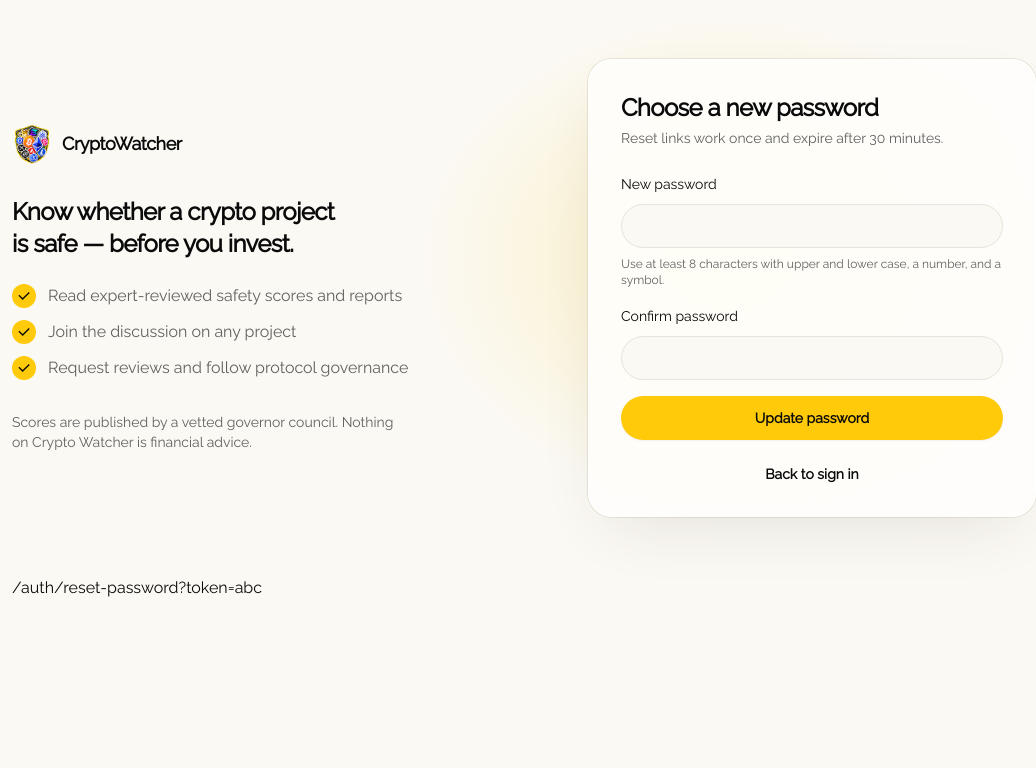
Scenario: ResetPasswordPage › reports mismatched passwords inline
Type "Correct-Horse-42!" into the password field labelled "New password" at [812, 226], box [621,204,1003,248]
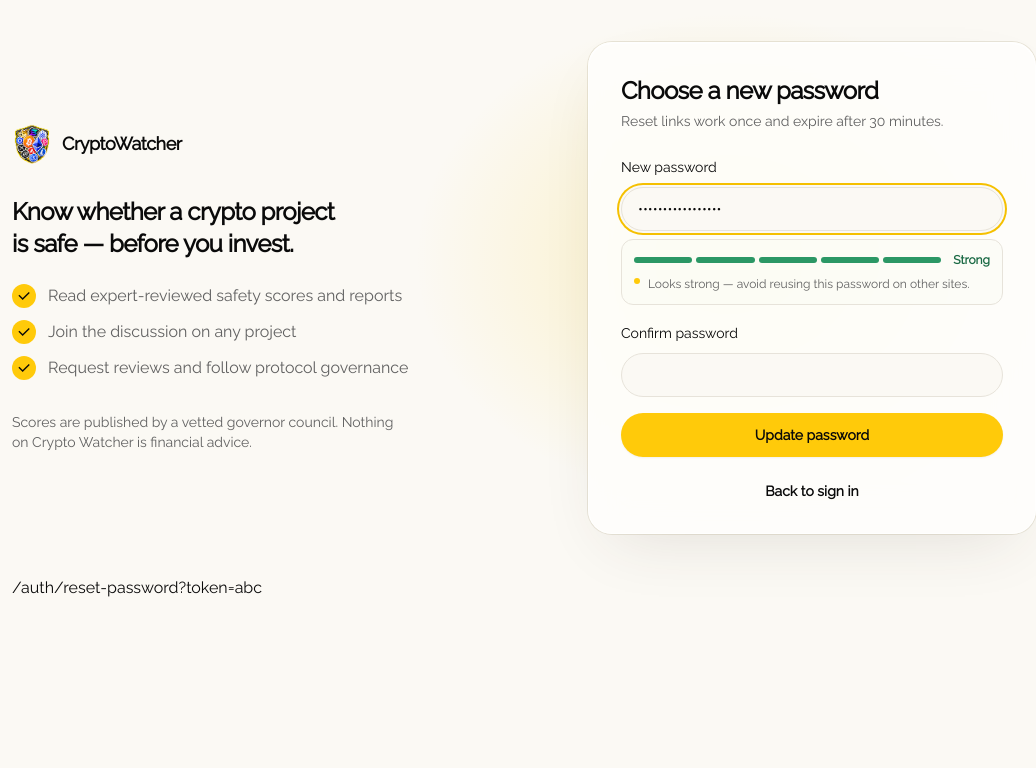
Type "Something-Else-42!" into the password field labelled "Confirm password" at [812, 375], box [621,353,1003,397]
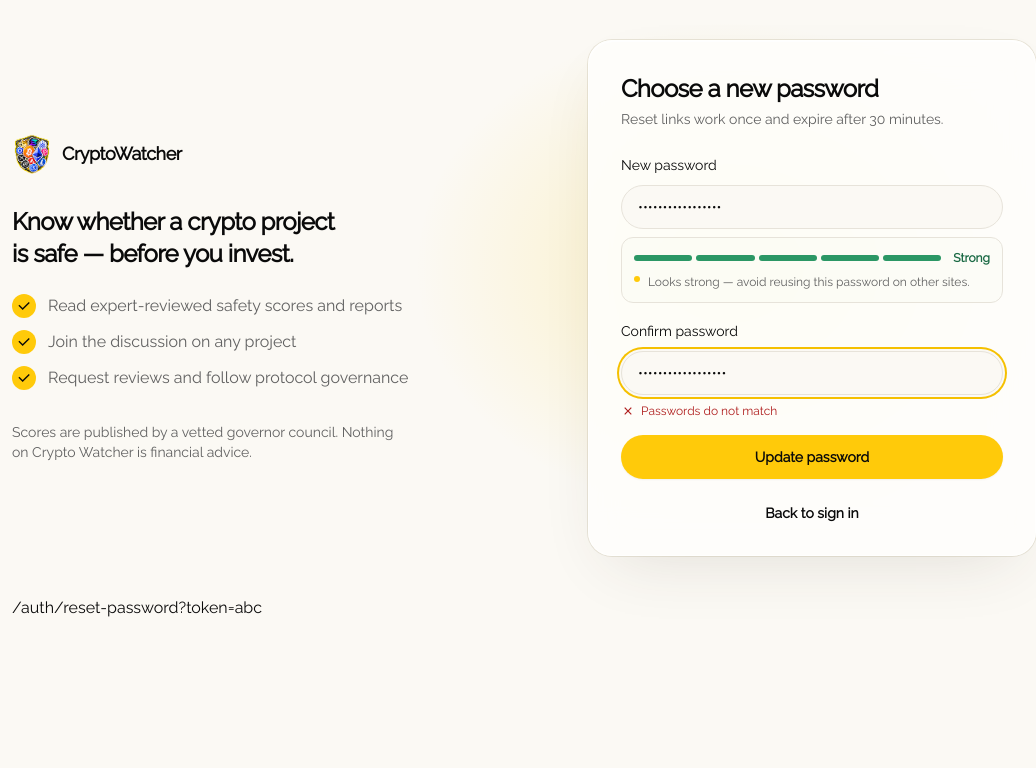
Click the button "Update password" at [812, 457], box [621,435,1003,479]
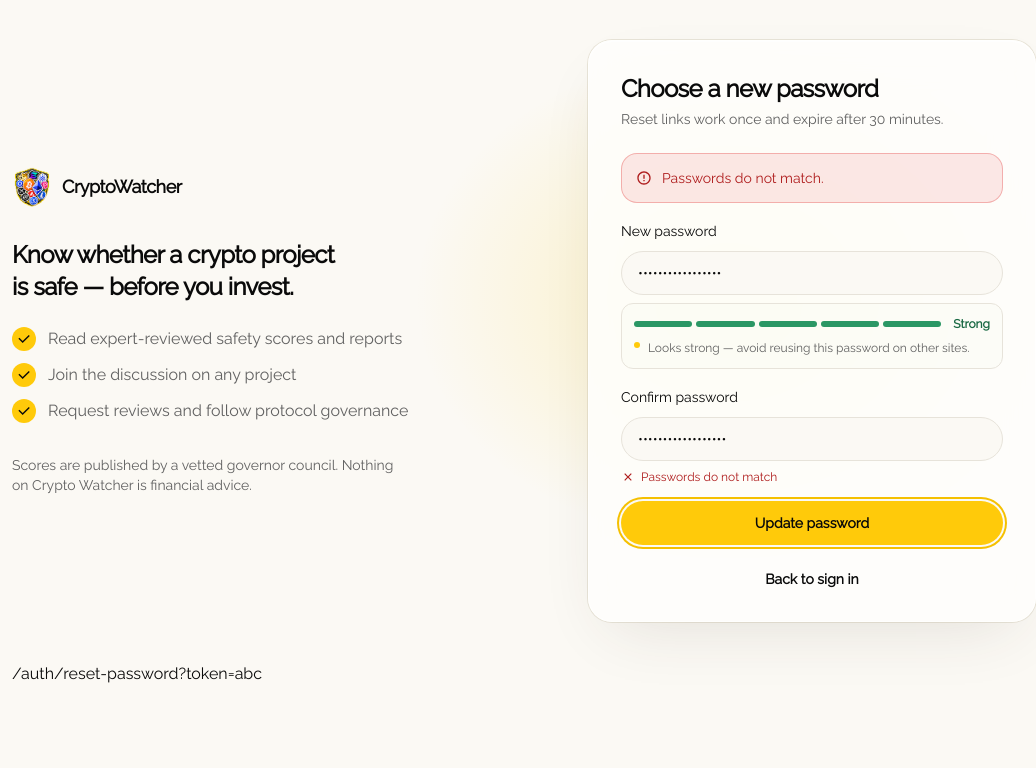
Expected: the message reads "Passwords do not match.", [662,170,824,186]
